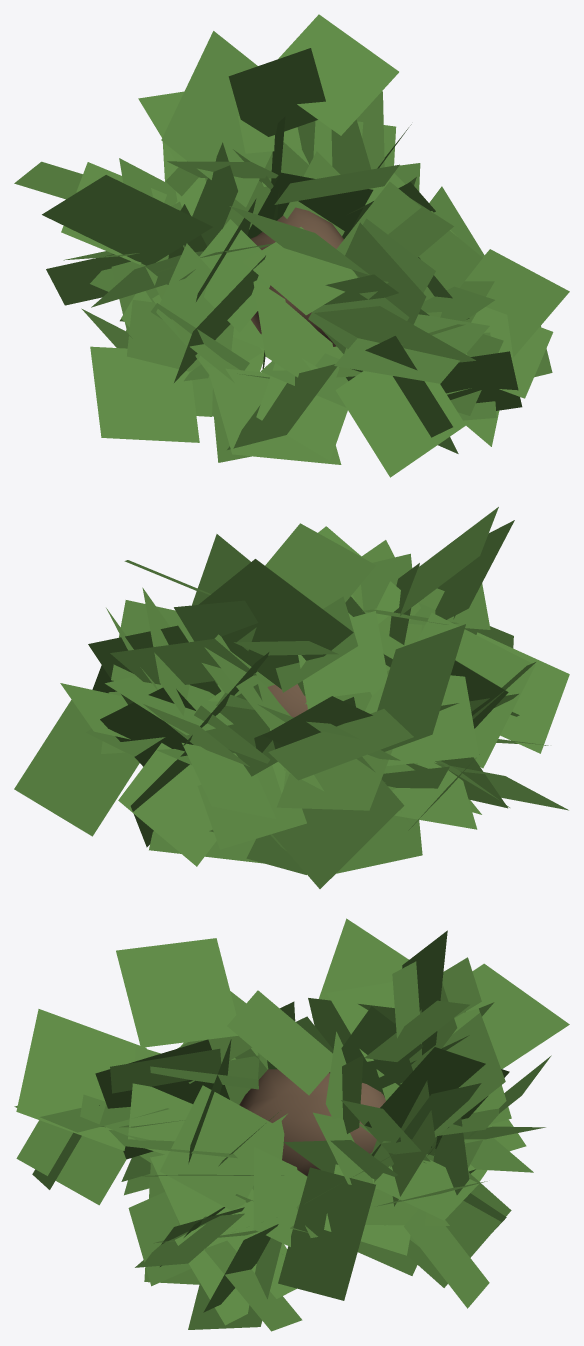
Rendered from foliage-shrub-light.glb.
3 views of the same model, one above another, from view 1: azimuth 30°, elevation 25°; view 2: azimuth 150°, elevation 25°; view 3: azimuth 270°, elevation 25° (orthographic). The views are drawn at different scales.
Parts seen in each view (by area): view 1: leaves, bark; view 2: leaves, bark; view 3: leaves, bark.
Boxes of the visible parts, bbox=[...] form: leaves: bbox=[14, 14, 569, 477]; bark: bbox=[250, 207, 343, 346]; leaves: bbox=[14, 507, 569, 888]; bark: bbox=[267, 684, 307, 717]; leaves: bbox=[14, 918, 569, 1331]; bark: bbox=[239, 1069, 385, 1176].
Size of the model in its own units: 3.66 by 2.71 by 4.08.
